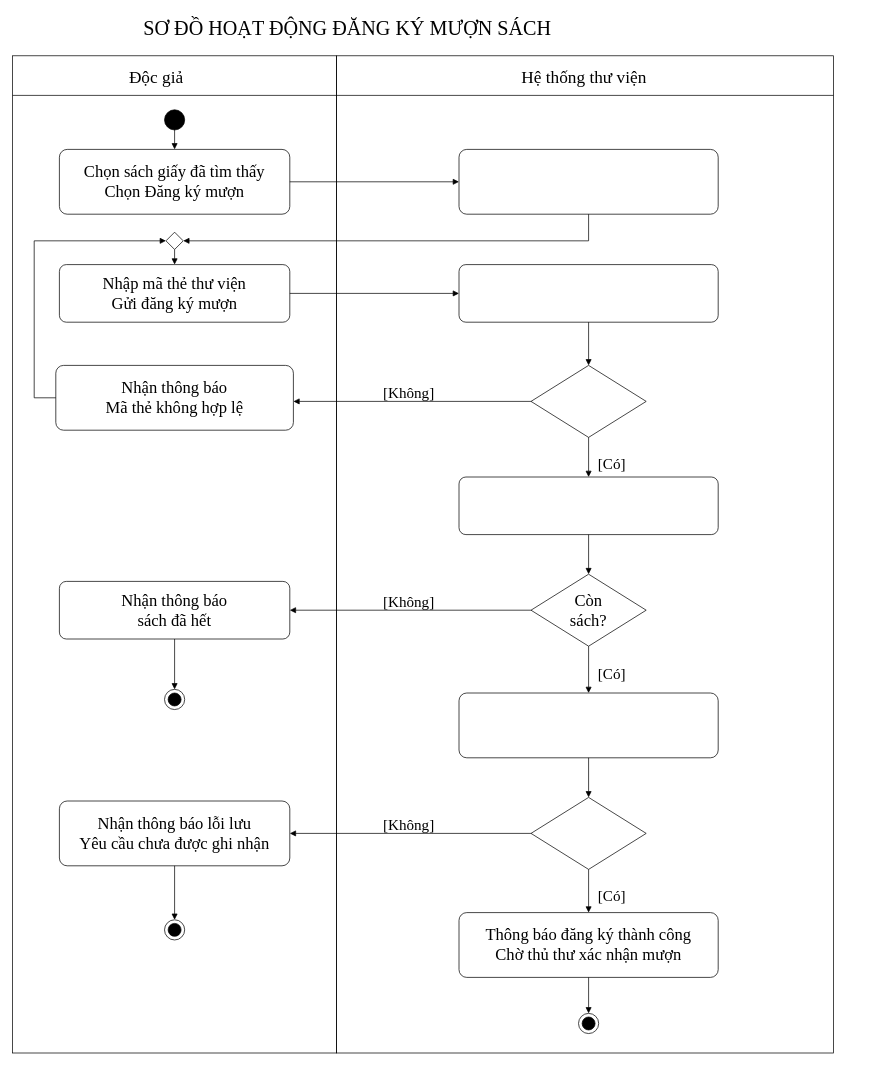
Some shapes in this 875 by 1066 pixel diagram are drawn without their labels. Each missing label, with the box of its shape:
Hiển thị thông tin sách, số lượng còn và ô nhập mã thẻ: (458, 149, 718, 214)
Kiểm tra lại số lượng sách còn trong thư viện: (458, 476, 718, 535)
Kiểm tra mã thẻ thư viện: (458, 264, 718, 322)
Lưu thông tin độc giả và sách Ghi nhận yêu cầu mượn: (458, 692, 718, 758)
Lưu được?: (530, 797, 646, 869)
Thẻ hợp lệ?: (530, 365, 646, 437)
